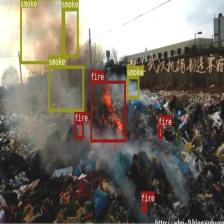fire: (90, 80, 126, 142), (74, 121, 84, 138), (158, 125, 162, 138), (141, 202, 147, 210)
smoke: (20, 0, 64, 63), (48, 65, 84, 111), (61, 7, 78, 56), (126, 76, 139, 98)
